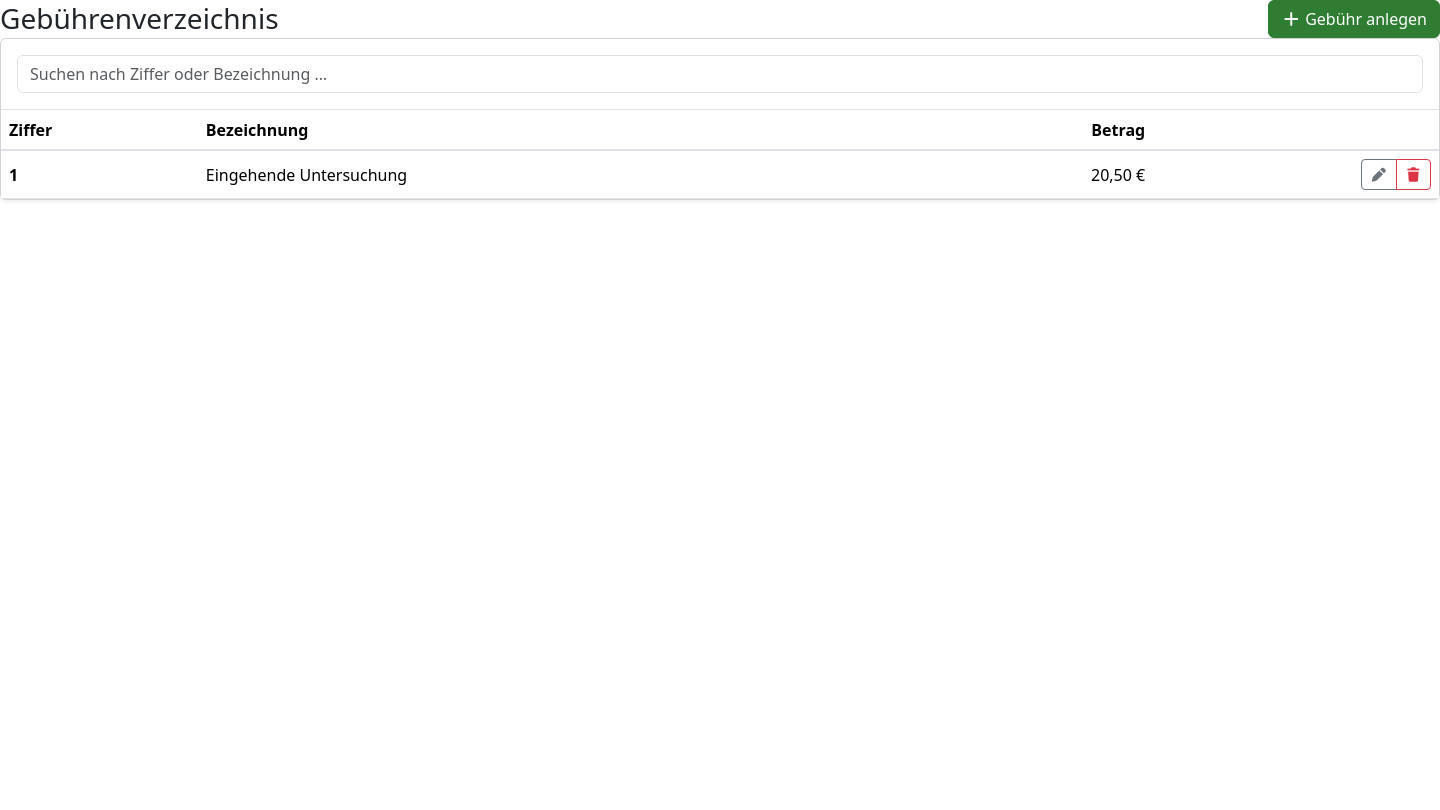
Test: Gebührenverzeichnis › sollte eine Gebühr nicht entfernen, wenn die Rückfrage abgebrochen wird
Step 1. Click the button named "Gebühr 1 entfernen" → (1413, 174), box 1396,159 -> 1431,190
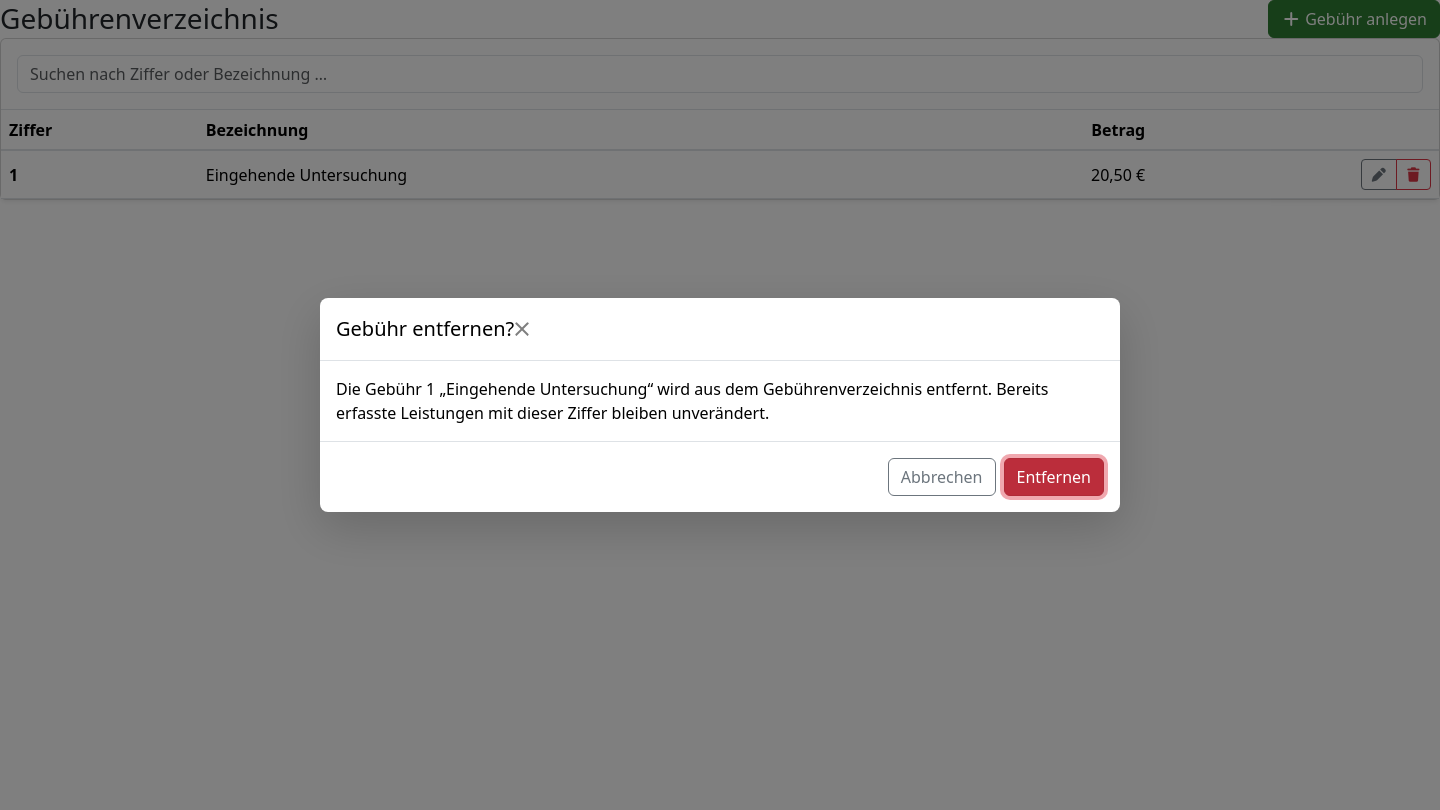
Step 2. Click the button "Abbrechen" → (942, 477), box 888,458 -> 996,496
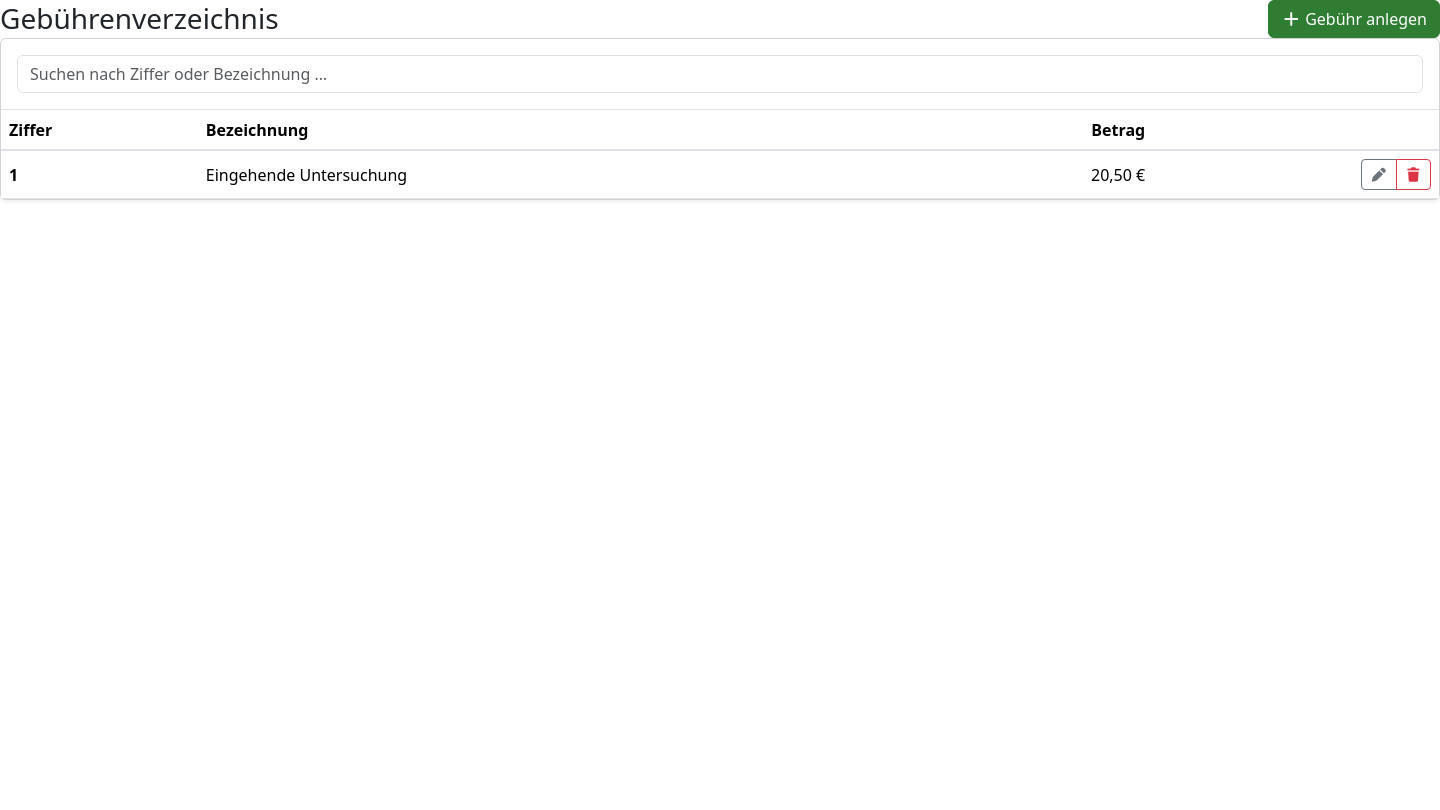
Result: the dialog is gone
